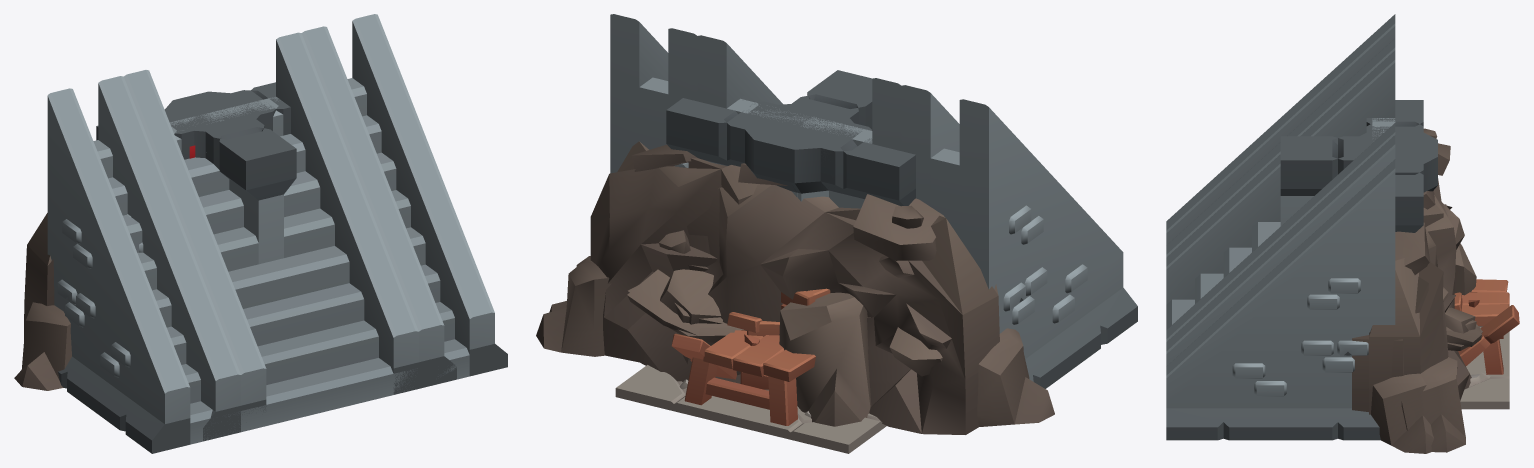
File: dungeon.glb
3 renders of one model, left to right at view 1: azimuth 30°, elevation 25°; view 2: azimuth 150°, elevation 25°; view 3: azimuth 270°, elevation 25°, orthographic. The views are drawn at different scales.
Visible parts, largest first — view 1: escalera_ancha, escalera, escalera_estrecha, muro_esquina, escombro, muro_pilar, muro_remate, muro_arco, muro; view 2: escombro, escalera_ancha, escombro_bajo, mesa_rota, muro, escalera, losa, escalera_estrecha, muro_bajo, muro_esquina, muro_pilar, muro_arco (+2 smaller); view 3: escalera_ancha, escalera_estrecha, escombro_bajo, escalera, escombro, muro_esquina, mesa_rota, muro, losa, muro_pilar, muro_remate, muro_bajo (+1 smaller).
Boxes of the visible parts, <box> form: escalera_ancha: <box>47,14,507,453</box>; escalera: <box>98,26,456,441</box>; escalera_estrecha: <box>124,32,431,427</box>; muro_esquina: <box>165,101,296,264</box>; escombro: <box>14,213,71,390</box>; muro_pilar: <box>165,91,266,158</box>; muro_remate: <box>198,90,275,121</box>; muro_arco: <box>96,88,290,139</box>; muro: <box>96,82,289,158</box>; escombro: <box>549,163,1054,434</box>; escalera_ancha: <box>610,14,1137,388</box>; escombro_bajo: <box>536,141,757,383</box>; mesa_rota: <box>671,312,815,425</box>; muro: <box>667,96,915,208</box>; escalera: <box>668,28,959,206</box>; losa: <box>615,365,886,453</box>; escalera_estrecha: <box>697,35,901,150</box>; muro_bajo: <box>666,98,813,166</box>; muro_esquina: <box>781,70,872,207</box>; muro_pilar: <box>745,102,856,207</box>; muro_arco: <box>679,97,915,205</box>; escalera_ancha: <box>1166,14,1395,440</box>; escalera_estrecha: <box>1166,50,1395,341</box>; escombro_bajo: <box>1369,205,1481,452</box>; escalera: <box>1166,38,1395,365</box>; escombro: <box>1352,128,1482,453</box>; muro_esquina: <box>1280,126,1423,225</box>; mesa_rota: <box>1454,279,1519,374</box>; muro: <box>1366,100,1423,232</box>; losa: <box>1460,327,1509,402</box>; muro_pilar: <box>1352,133,1437,192</box>; muro_remate: <box>1395,148,1423,174</box>; muro_bajo: <box>1395,160,1423,226</box>.
Size of the model in its own units: 8.13 by 5.92 by 6.18.
1 material, 1 textured.
